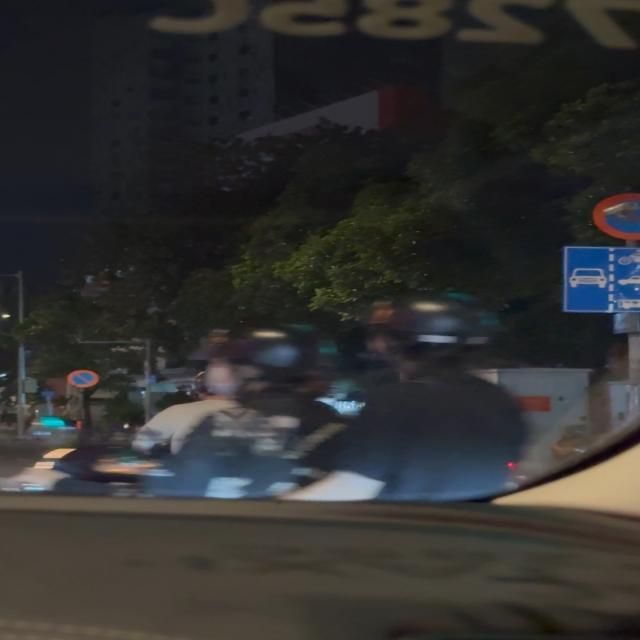Bien bao cam do xe: (64, 367, 102, 391)
